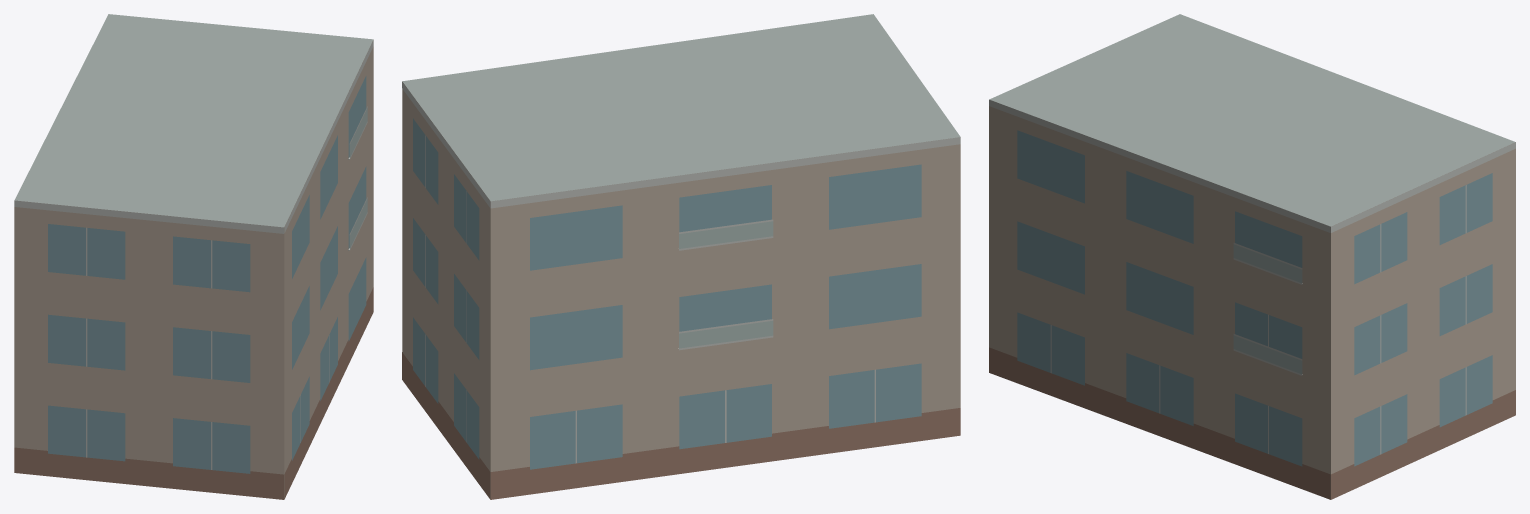
File: survey-upis-32950201.glb
3 views of the same model, side by side, from view 1: azimuth 30°, elevation 25°; view 2: azimuth 150°, elevation 25°; view 3: azimuth 270°, elevation 25° (orthographic). The views are drawn at different scales.
Parts seen in each view (by area): view 1: survey-upis-32950201.tmp; view 2: survey-upis-32950201.tmp; view 3: survey-upis-32950201.tmp.
Boxes of the visible parts, <box> form: survey-upis-32950201.tmp: <box>14,14,373,499</box>; survey-upis-32950201.tmp: <box>402,14,960,499</box>; survey-upis-32950201.tmp: <box>989,14,1515,499</box>.
Bounding box in the file's own units: 17.03 × 10.2 × 17.83.
